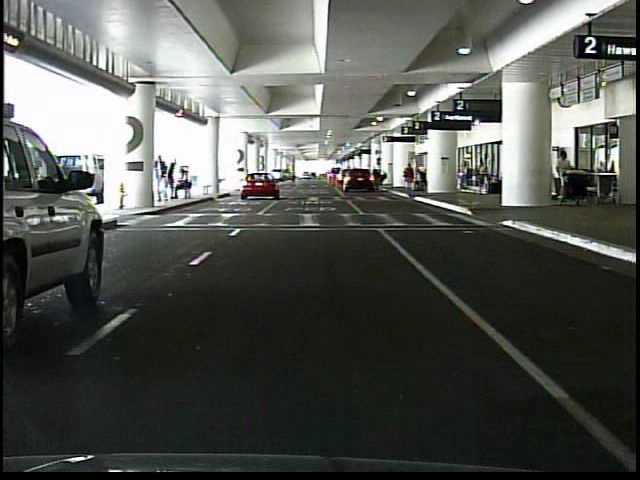person: (552, 149, 573, 205), (156, 151, 171, 203), (173, 169, 194, 200), (168, 159, 179, 201), (402, 162, 416, 193), (476, 161, 487, 196), (456, 162, 469, 190)
